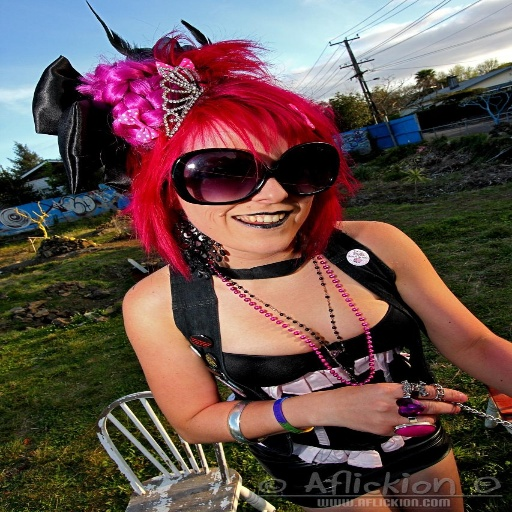hand: (288, 380, 455, 445)
